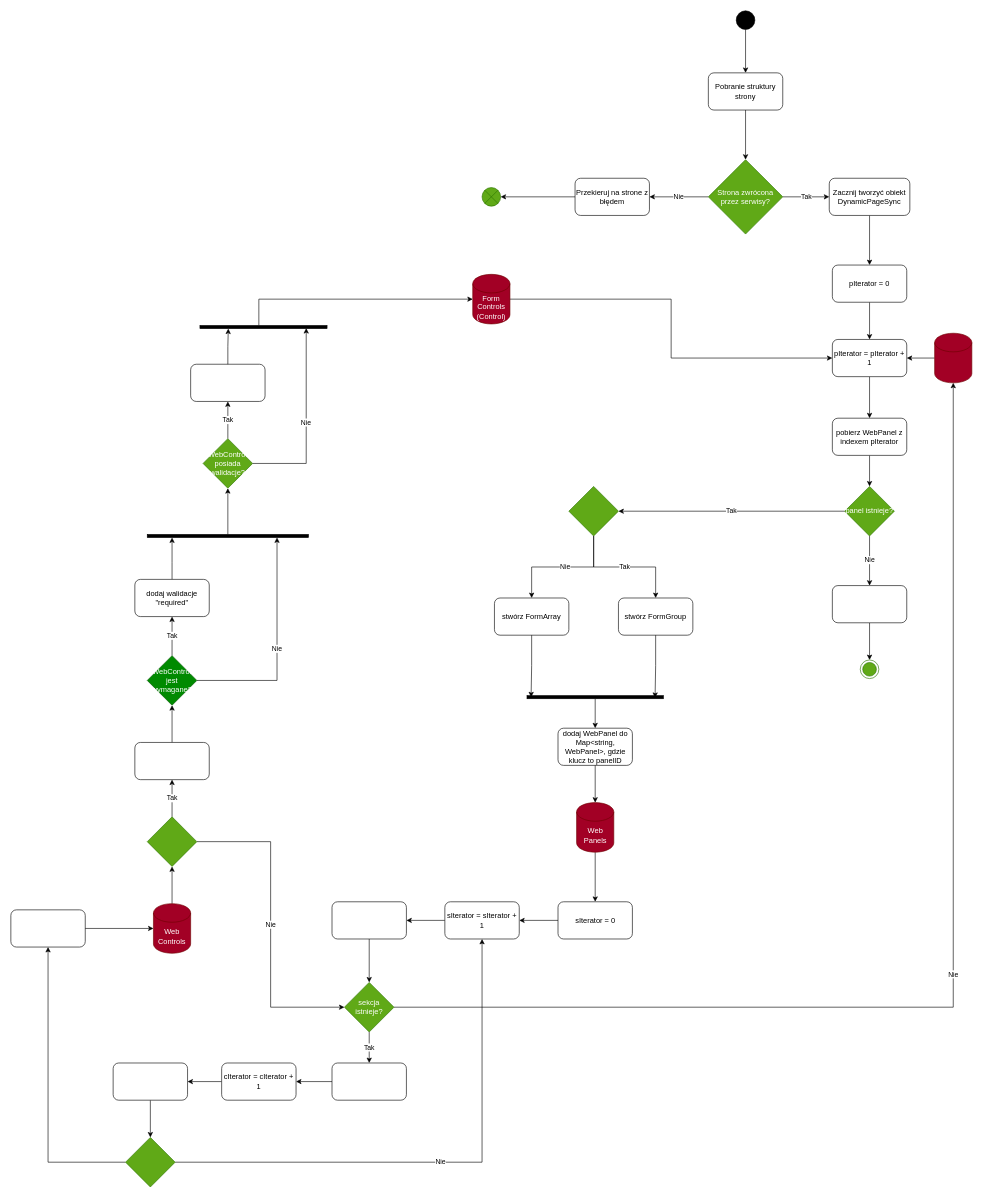
Some shapes in this 988 by 1198 pixel diagram are drawn without their labels. The centre of each missing label's shape, as x and y in pixels:
"cIterator = 0" belongs at point 368,1081.
"czy panel jest listą" belongs at point 593,511.
"czy typ tworzy formControl?" belongs at point 172,841.
"dodaj walidacje" belongs at point 227,382.
"dodaj WebControl do Map<string, WebControl>, gdzie klucz to panelID_controlID" belongs at point 47,928.
"Form Groups/Arrays (Panel)" belongs at point 953,358.
"kontrolka istnieje?" belongs at point 150,1162.
"pobierz WebControl z indexem cIterator" belongs at point 150,1081.
"pobierz WebSection z indexem sIterator" belongs at point 368,920.
"przypisz stworzony DynamicPageSync do strony" belongs at point 869,604.
"stwórz FormControl" belongs at point 171,761.
